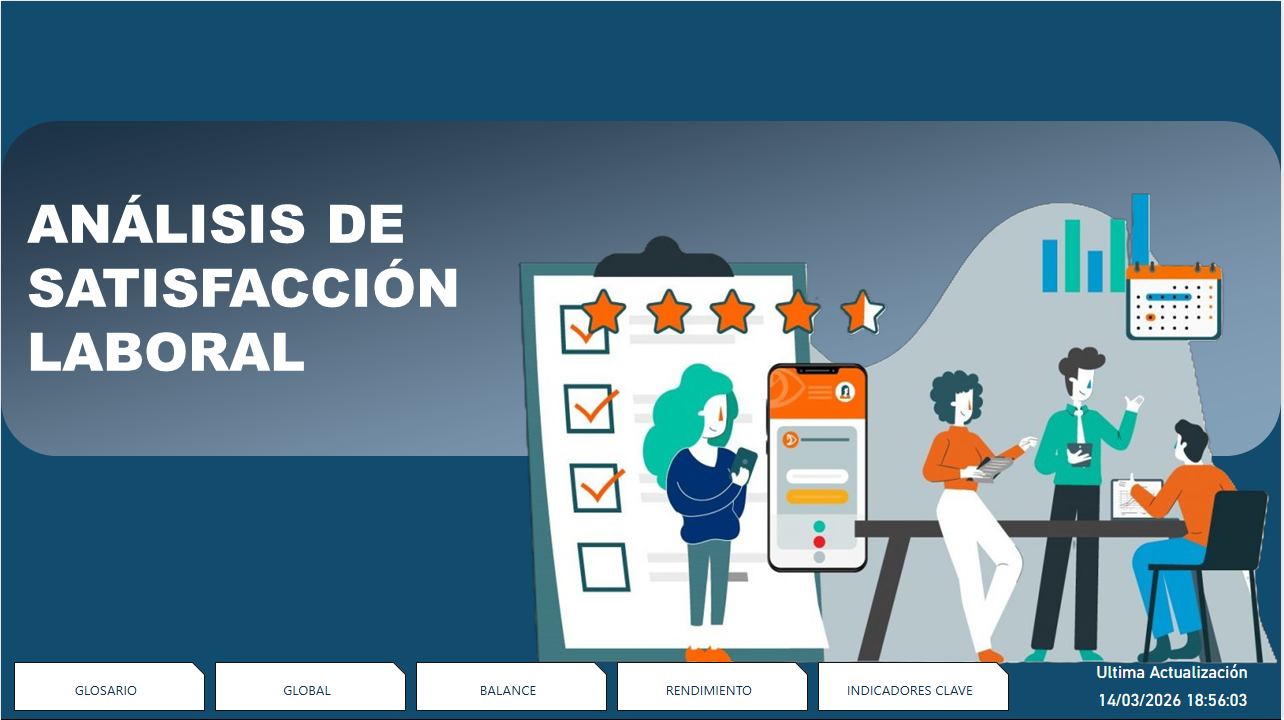

What the dashboard file says about the page in this screenshot:
{"tool":"powerbi","page":{"name":"PROYECTO","canvas":[1280,720],"ordinal":0},"visuals":[{"type":"card","title":"Ultima Actualización","fields":{"Values":["Tabla Medidas.Última_Actualización"]},"box":[1063.1,660.7,216.8,59.3],"z":0},{"type":"pageNavigator","box":[12.7,660.7,999.5,49.1],"z":2000}]}

Visuals, with their boxes in screenshot pixels (x1, y1, x2, y2), scaled from the page's 1280x720 canvas onto the 1284x720 screenshot:
"Ultima Actualización" card: bbox=[1066, 661, 1283, 719]
pageNavigator: bbox=[13, 661, 1015, 710]
